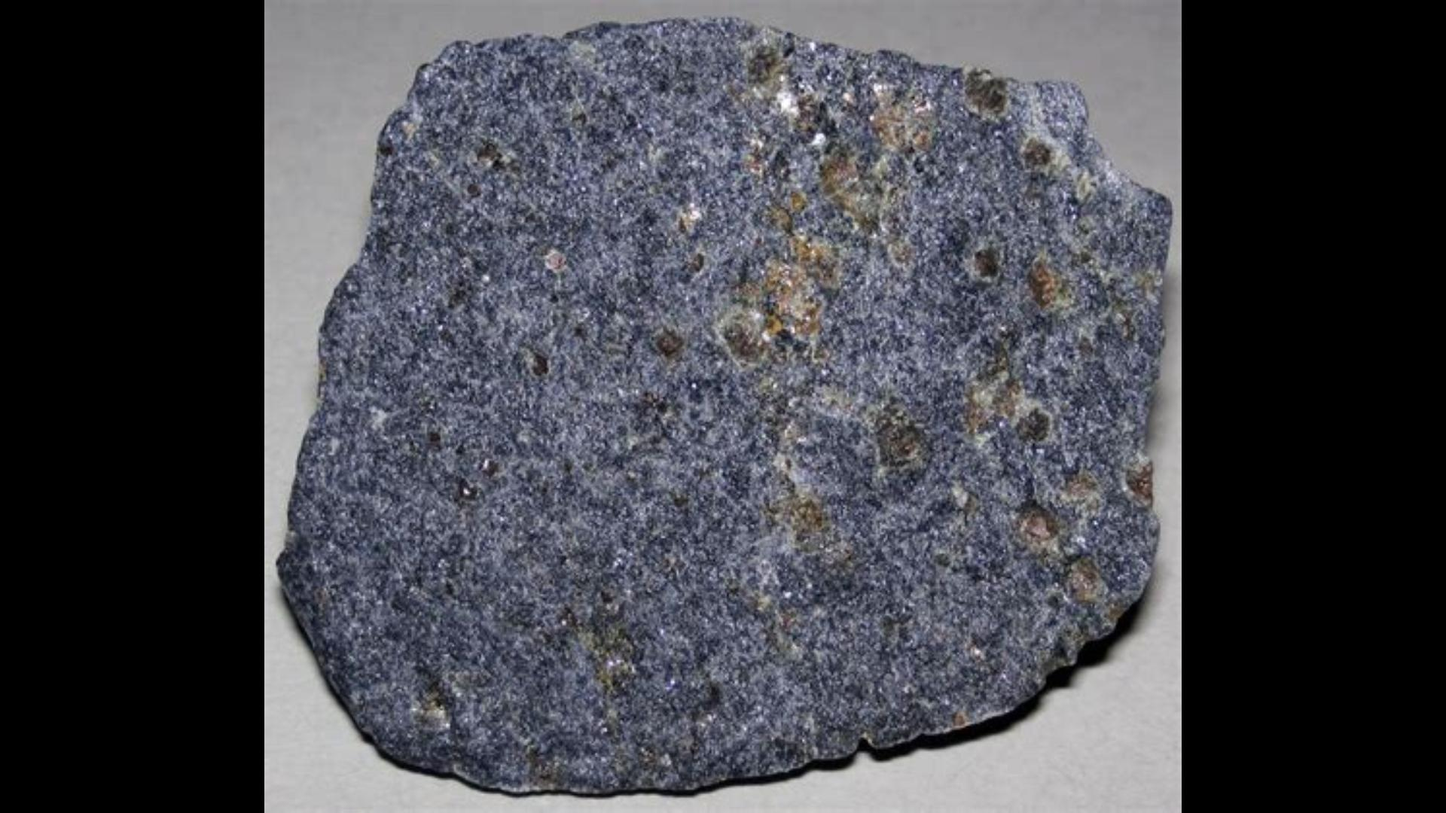rock: (280, 19, 1169, 788)
